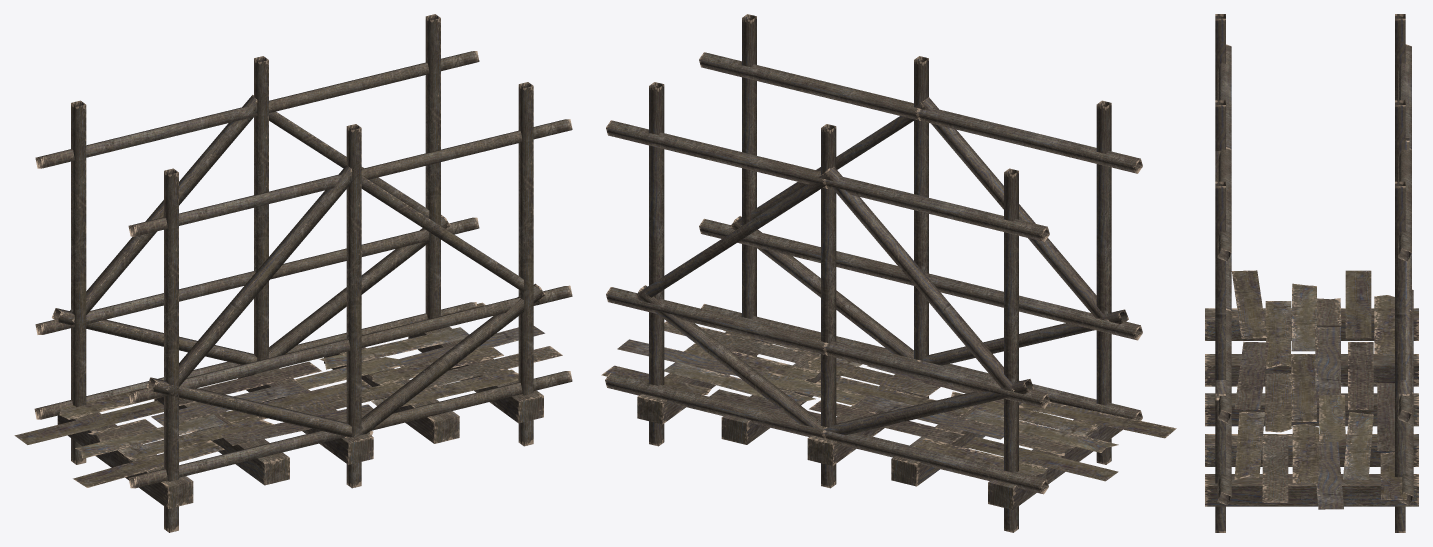
The model's file is Scaffolding_StandaloneLong.fbx.
The picture shows the model from 3 angles, left to right: view 1: azimuth 30°, elevation 25°; view 2: azimuth 150°, elevation 25°; view 3: azimuth 270°, elevation 25°; orthographic projection. The views are drawn at different scales.
Parts seen in each view (by area): view 1: CDTMesh_Scaffolding_StandaloneLong_LOD; view 2: CDTMesh_Scaffolding_StandaloneLong_LOD; view 3: CDTMesh_Scaffolding_StandaloneLong_LOD.
Boxes of the visible parts, x1=… form: CDTMesh_Scaffolding_StandaloneLong_LOD: x1=14, y1=14, x2=572, y2=532; CDTMesh_Scaffolding_StandaloneLong_LOD: x1=601, y1=14, x2=1176, y2=532; CDTMesh_Scaffolding_StandaloneLong_LOD: x1=1205, y1=14, x2=1418, y2=532.
Size of what is drawn, in the model's own units: 10.89 by 7.39 by 4.13.
